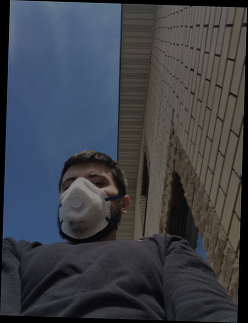with_mask: (57, 170, 117, 244)
